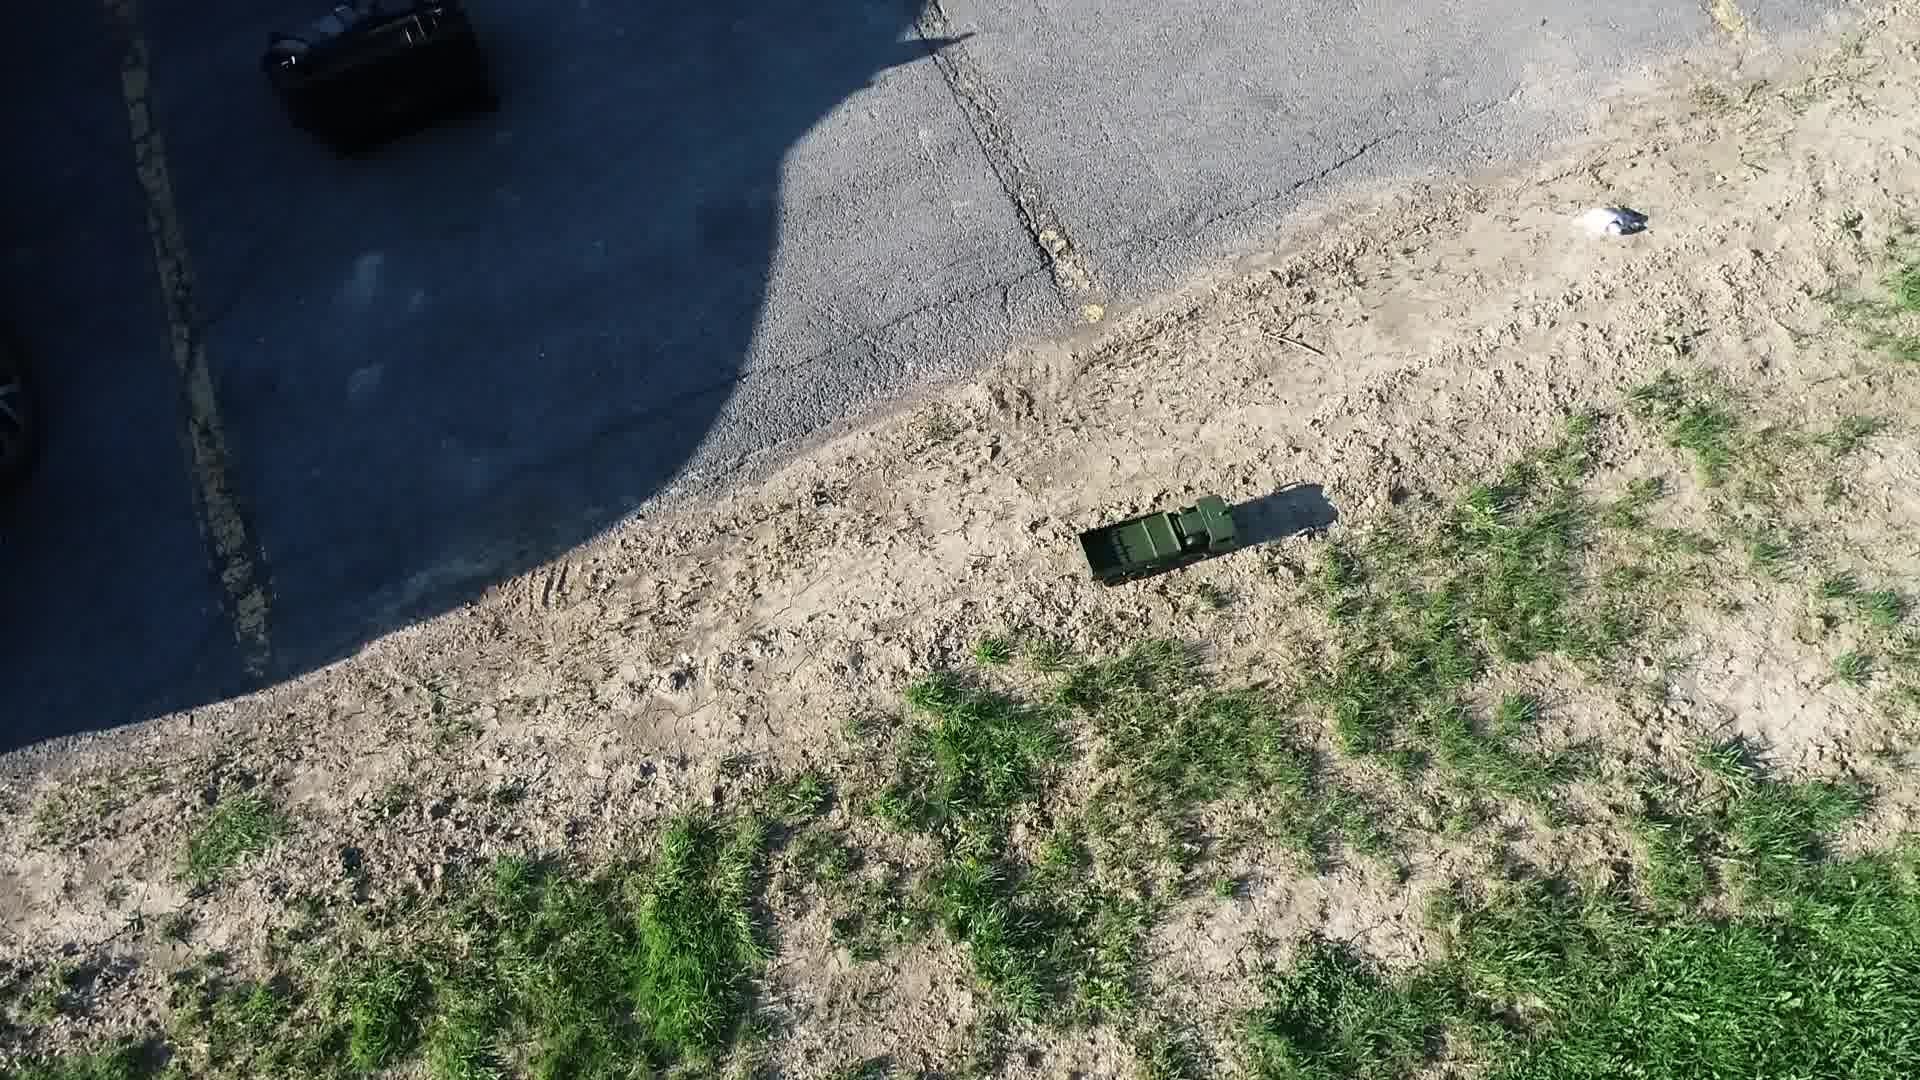transporter9: (1069, 491, 1242, 591)
